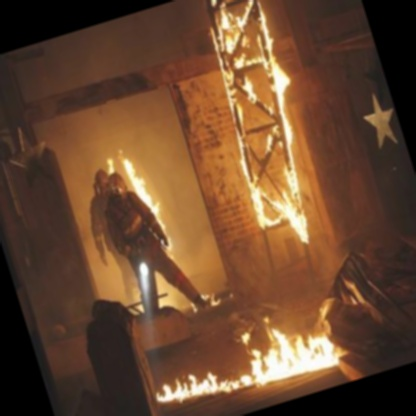fire: (154, 0, 344, 269), (125, 269, 376, 416), (97, 130, 179, 244)
